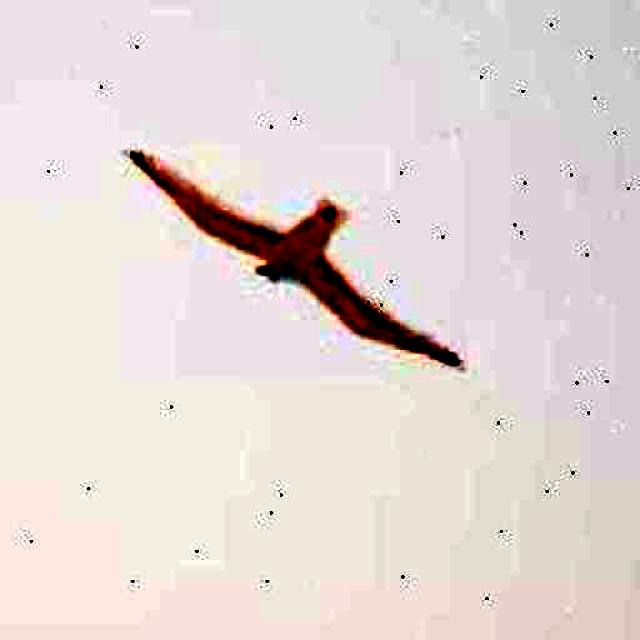airplane: (119, 139, 465, 378)
